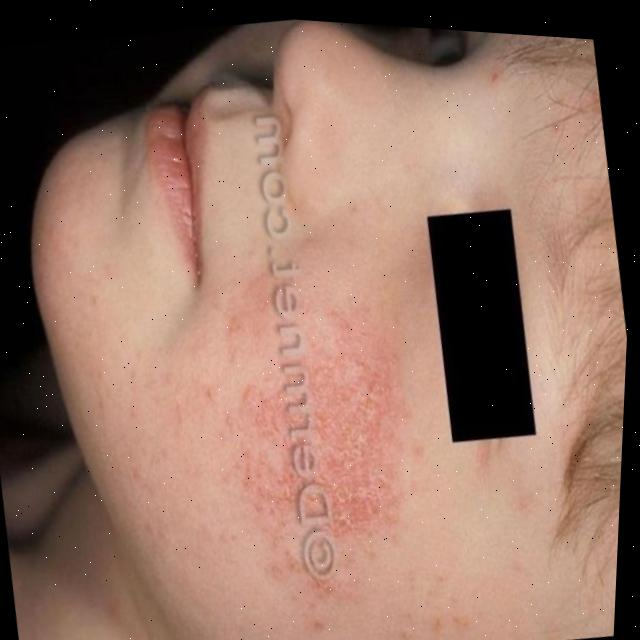Eczema: (186, 285, 463, 640)
